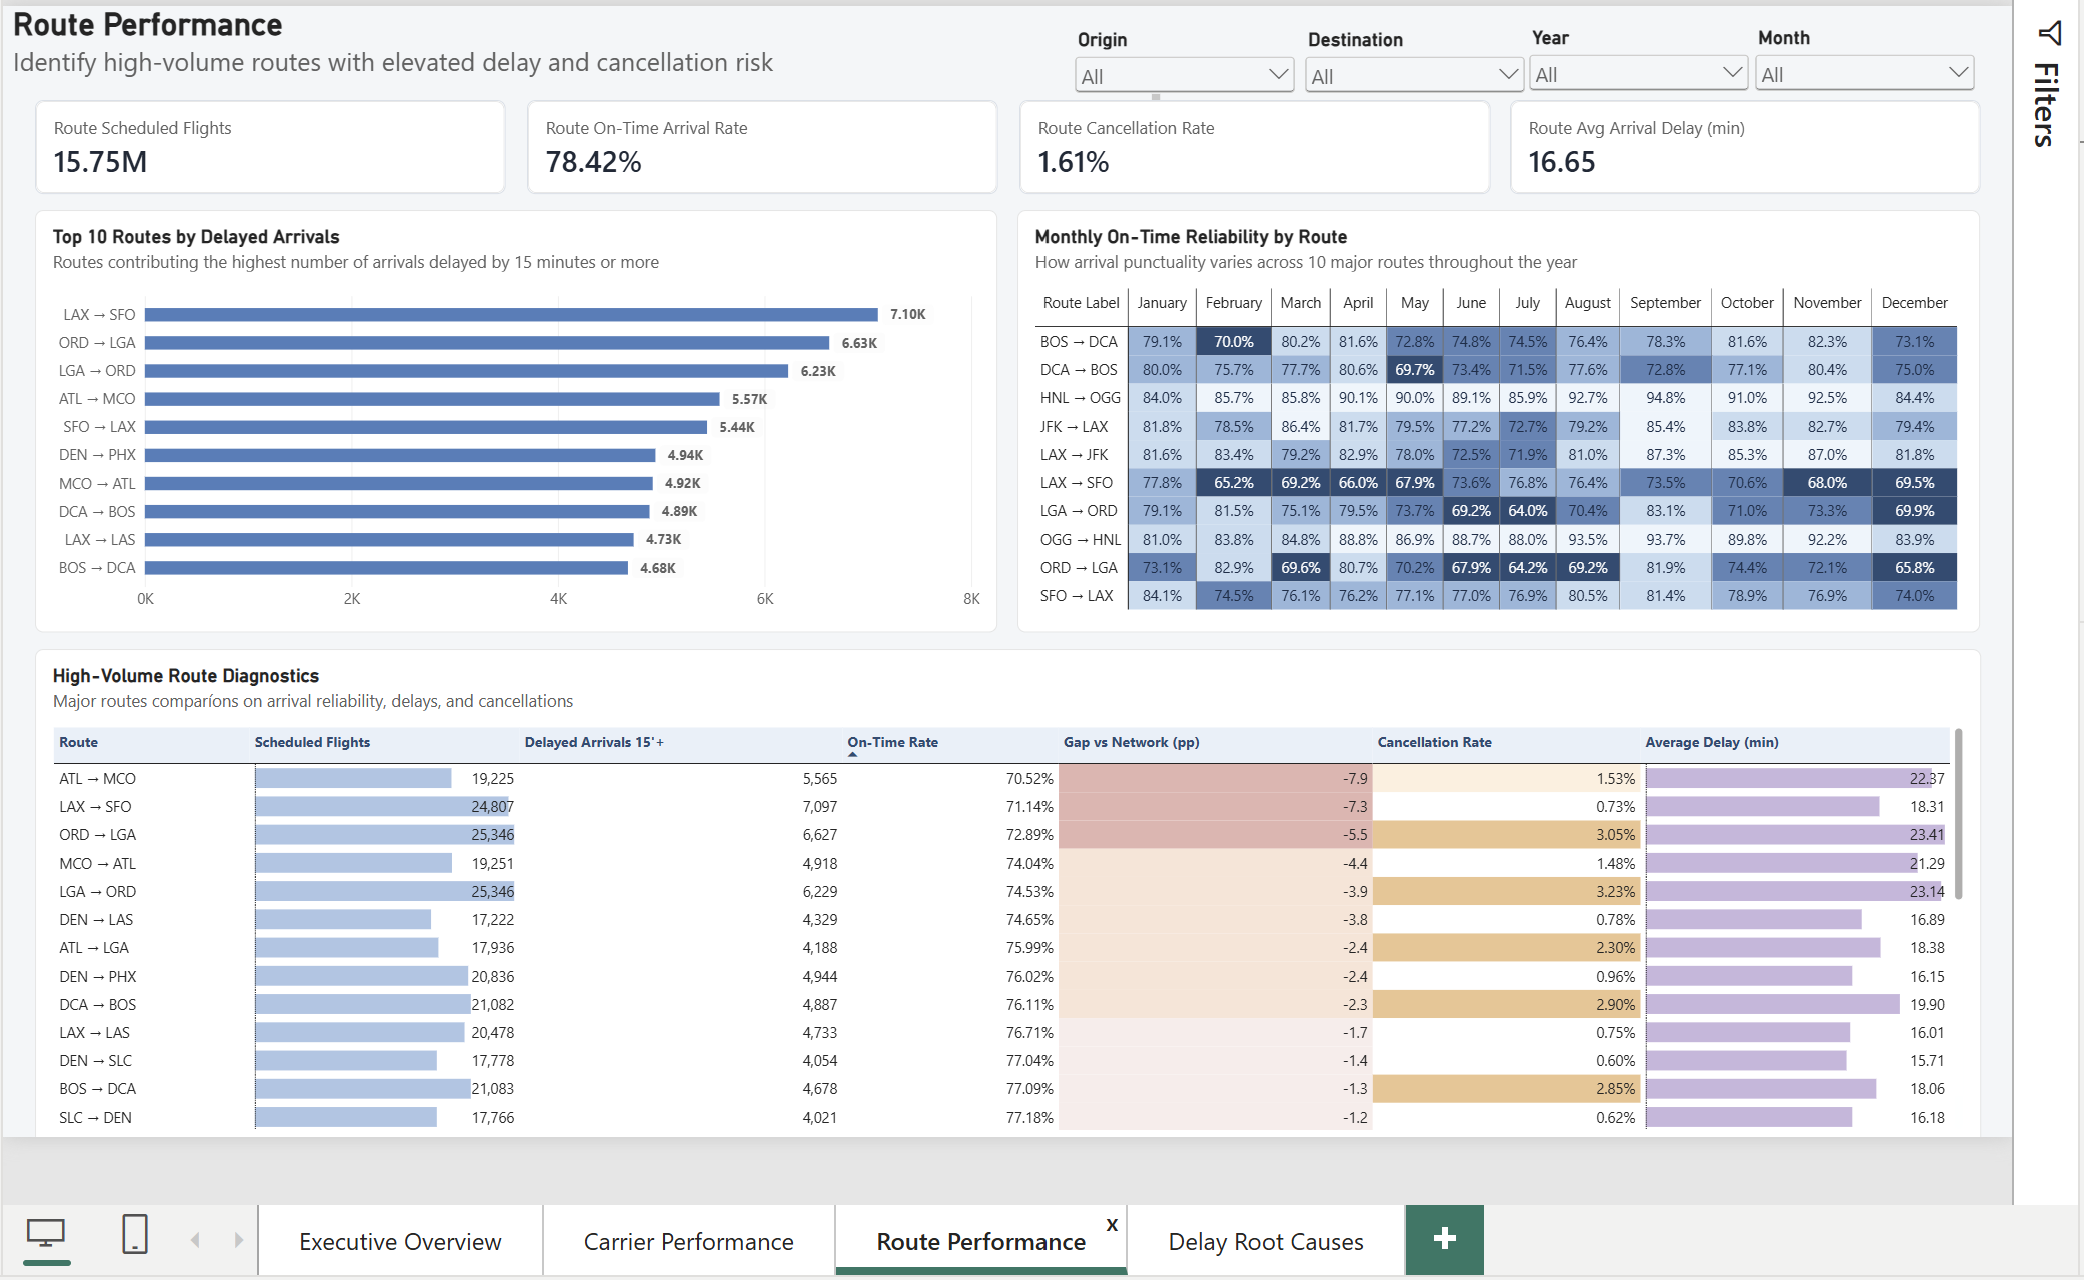

This screenshot's page, from the dashboard's own definition file:
{"tool":"powerbi","page":{"name":"Route Performance","canvas":[1920,1080],"ordinal":2},"visuals":[{"type":"textbox","title":"Route Performance","box":[9.6,0,1095.8,91.8],"z":0},{"type":"cardVisual","fields":{"Data":["_Measures.Route Scheduled Flights"]},"box":[30,90,450,90],"z":1000,"group":"g1"},{"type":"clusteredBarChart","title":"Top 10 Routes by Delayed Arrivals","fields":{"Category":["mart_route_monthly_performance.Route Label"],"Y":["_Measures.Route Delayed Arrivals 15+"]},"box":[30,196,920,404],"z":1000},{"type":"cardVisual","fields":{"Data":["_Measures.Route On-Time Arrival Rate"]},"box":[500,90,450,90],"z":2000,"group":"g1"},{"type":"pivotTable","title":"Monthly On-Time Reliability by Route","fields":{"Columns":["dim_date.month_name"],"Rows":["mart_route_monthly_performance.Route Label"],"Values":["_Measures.Route Heatmap On-Time Rate"]},"box":[970,196,920,404],"z":2000},{"type":"cardVisual","fields":{"Data":["_Measures.Route Cancellation Rate"]},"box":[970,90,450,90],"z":3000,"group":"g1"},{"type":"tableEx","title":"High-Volume Route Diagnostics","fields":{"Values":["mart_route_monthly_performance.Route Label","_Measures.Route Scheduled Flights","_Measures.Route Delayed Arrivals 15+","_Measures.Route On-Time Arrival Rate","_Measures.Route On-Time Gap vs Network (pp)","_Measures.Route Cancellation Rate","_Measures.Route Avg Arrival Delay (min)"]},"box":[30,614,1860,476],"z":3000},{"type":"cardVisual","fields":{"Data":["_Measures.Route Avg Arrival Delay (min)"]},"box":[1440,90,450,90],"z":4000,"group":"g1"},{"type":"slicer","title":"Reporting year","fields":{"Values":["dim_date.calendar_year"]},"box":[1455,20,220,70],"z":5000,"group":"g2"},{"type":"group","id":"g1","title":"Group 2","box":[30,90,1860,90],"z":5000},{"type":"slicer","title":"Reporting year","fields":{"Values":["dim_date.month_name"]},"box":[1670,20,220,70],"z":6000,"group":"g2"},{"type":"slicer","title":"Reporting year","fields":{"Values":["dim_destination_airport.airport_code"]},"box":[1240,21,220,70],"z":7000,"group":"g2"},{"type":"slicer","title":"Reporting year","fields":{"Values":["dim_origin_airport.airport_code"]},"box":[1020,21,220,70],"z":8000,"group":"g2"},{"type":"group","id":"g2","title":"Group 1","box":[1020,20,870,71],"z":8001}]}

Visuals, with their boxes on the page's 1920x1080 design canvas (x1, y1, x2, y2). These are canvas units, not pixel positions in the 2084x1280 screenshot, which may show the page scaled, cropped or inside an application window:
"Route Performance" textbox: [10,0,1105,92]
cardVisual - _Measures.Route Scheduled Flights: [30,90,480,180]
"Top 10 Routes by Delayed Arrivals" clusteredBarChart: [30,196,950,600]
cardVisual - _Measures.Route On-Time Arrival Rate: [500,90,950,180]
"Monthly On-Time Reliability by Route" pivotTable: [970,196,1890,600]
cardVisual - _Measures.Route Cancellation Rate: [970,90,1420,180]
"High-Volume Route Diagnostics" tableEx: [30,614,1890,1090]
cardVisual - _Measures.Route Avg Arrival Delay (min): [1440,90,1890,180]
"Reporting year" slicer: [1455,20,1675,90]
"Group 2" group: [30,90,1890,180]
"Reporting year" slicer: [1670,20,1890,90]
"Reporting year" slicer: [1240,21,1460,91]
"Reporting year" slicer: [1020,21,1240,91]
"Group 1" group: [1020,20,1890,91]
